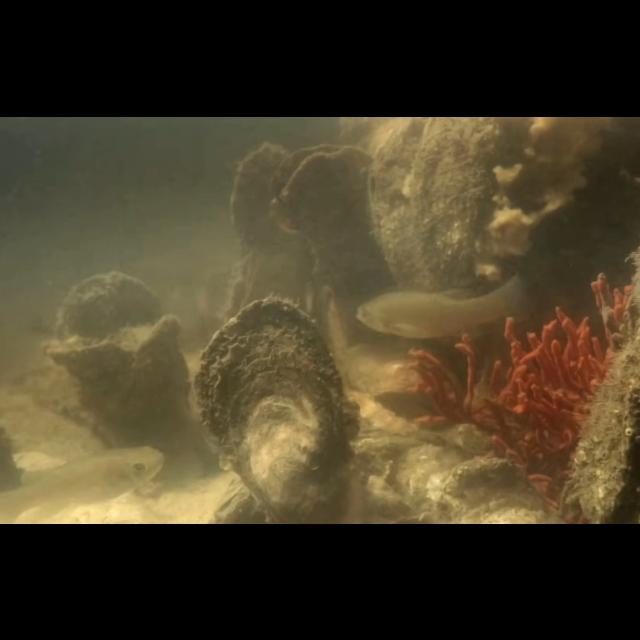Oyster-Closed: (193, 292, 351, 524), (40, 315, 190, 429), (51, 271, 162, 343), (437, 455, 548, 523), (231, 139, 289, 265)
Oyster-Open: (267, 142, 378, 282)
